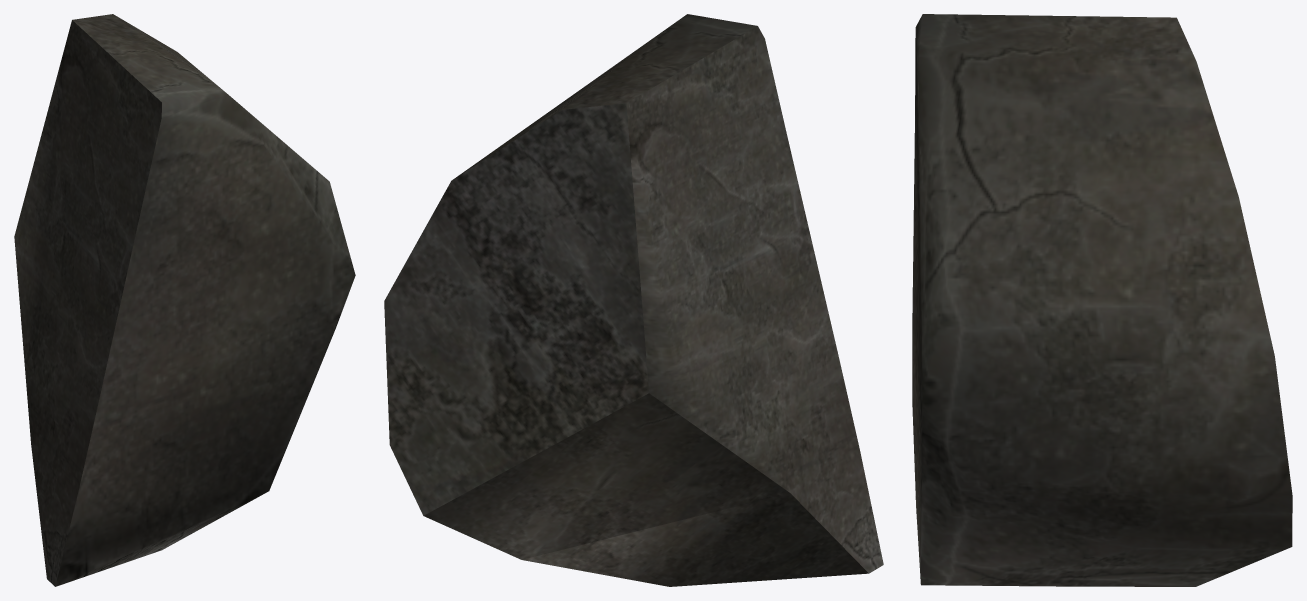
File: TI_Pillar_Piece_01.fbx
3 views of the same model, side by side, from view 1: azimuth 30°, elevation 25°; view 2: azimuth 150°, elevation 25°; view 3: azimuth 270°, elevation 25° (orthographic). The views are drawn at different scales.
Parts seen in each view (by area): view 1: TI_Pillar_Piece_01; view 2: TI_Pillar_Piece_01; view 3: TI_Pillar_Piece_01.
Boxes of the visible parts, box(x1,y1,x2,y2) form: TI_Pillar_Piece_01: box(14, 14, 355, 586); TI_Pillar_Piece_01: box(384, 14, 883, 586); TI_Pillar_Piece_01: box(912, 14, 1292, 586).
Size of the model in its own units: 0.6911 by 1.01 by 0.6122.
